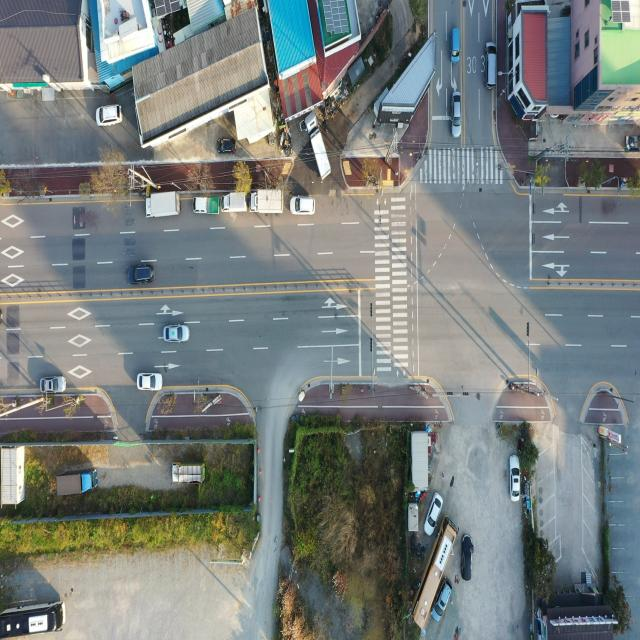car: (432, 579, 455, 622), (423, 491, 443, 534), (460, 532, 473, 582), (96, 104, 124, 126), (486, 41, 498, 90), (452, 91, 462, 141), (164, 324, 190, 343), (136, 373, 162, 392), (41, 376, 67, 394), (511, 454, 521, 500), (292, 197, 316, 216), (131, 266, 154, 285), (217, 133, 237, 153), (452, 30, 460, 64)
large_bus: (413, 516, 459, 632), (0, 596, 67, 640)
medium_truck: (304, 114, 329, 182), (52, 464, 98, 496), (146, 190, 182, 220), (251, 188, 285, 214)
small_truck: (171, 458, 204, 483), (193, 193, 220, 216), (222, 192, 246, 213)
